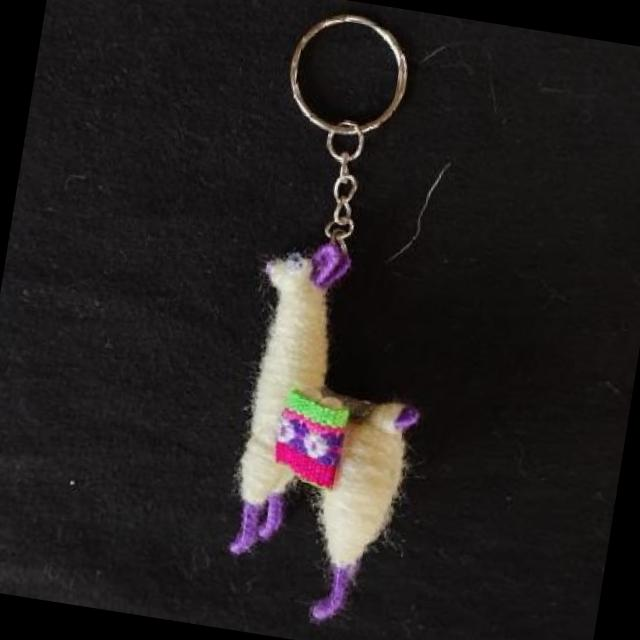Llavero: (210, 239, 446, 635)
